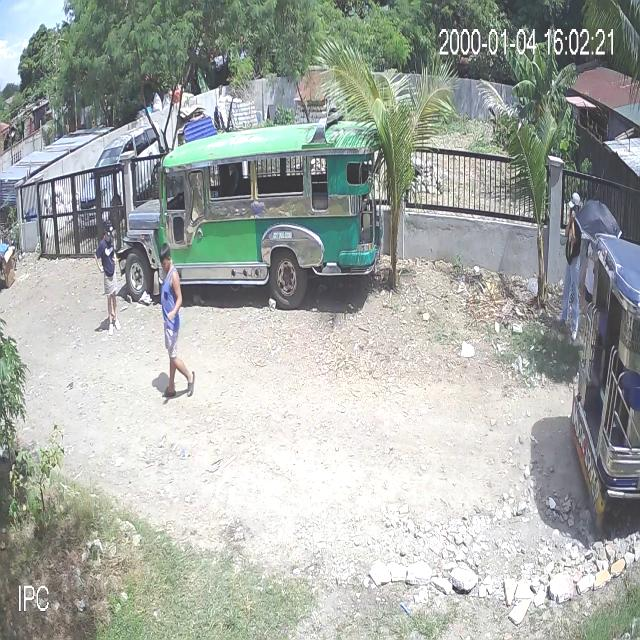standing: (558, 190, 581, 344), (96, 221, 123, 339)
walking: (160, 240, 201, 402)
